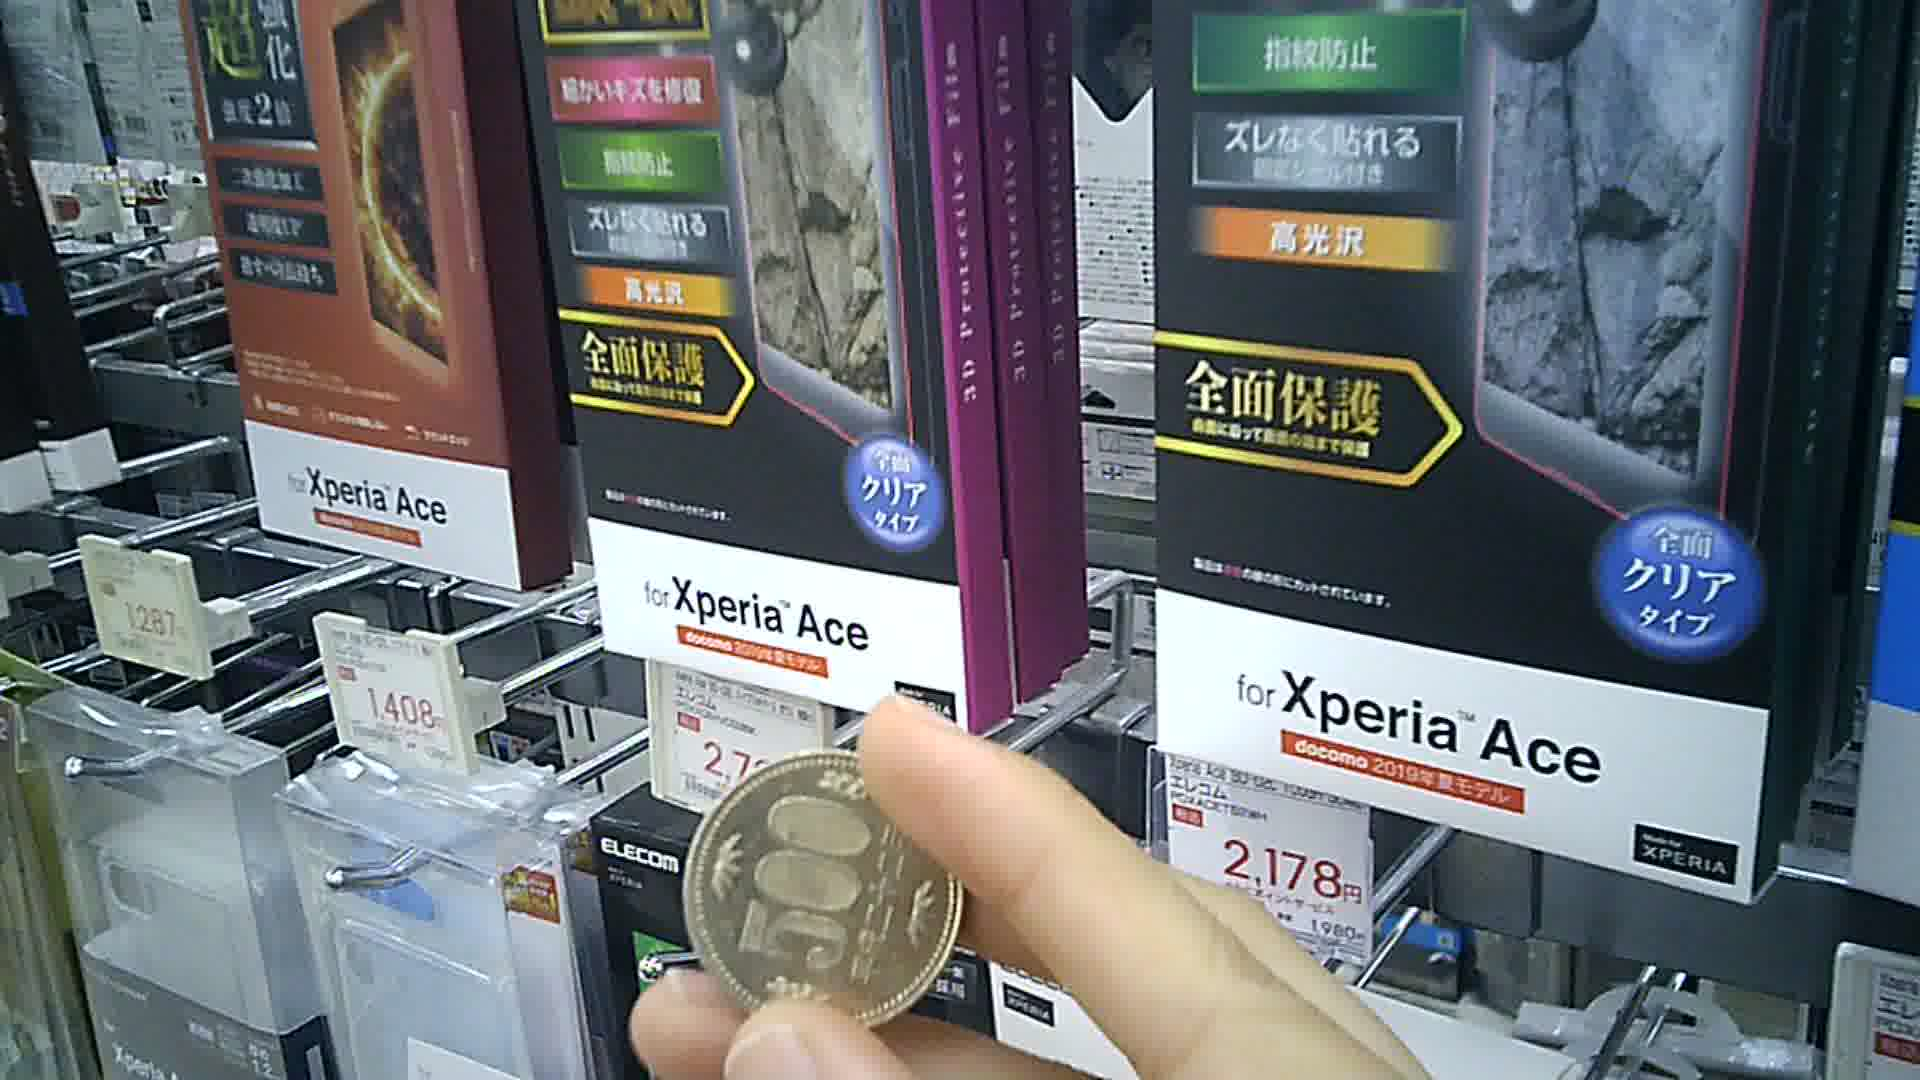500 Yen: (680, 750, 971, 1034)
